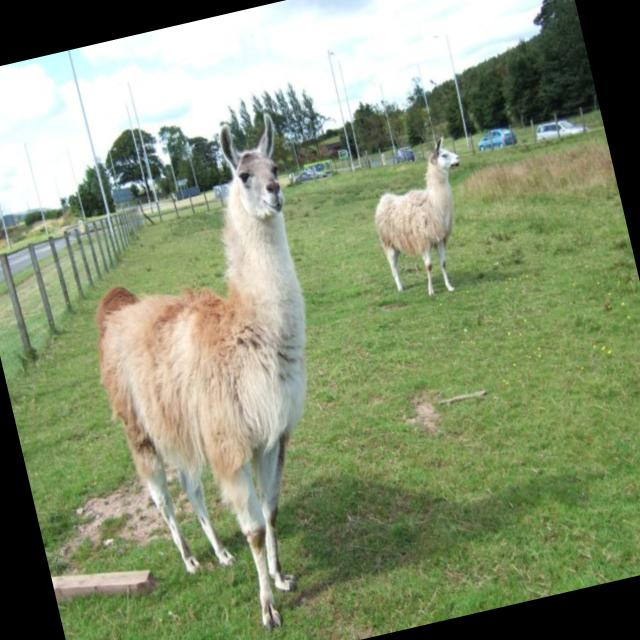alpaca: (49, 111, 383, 640), (360, 133, 488, 304)
